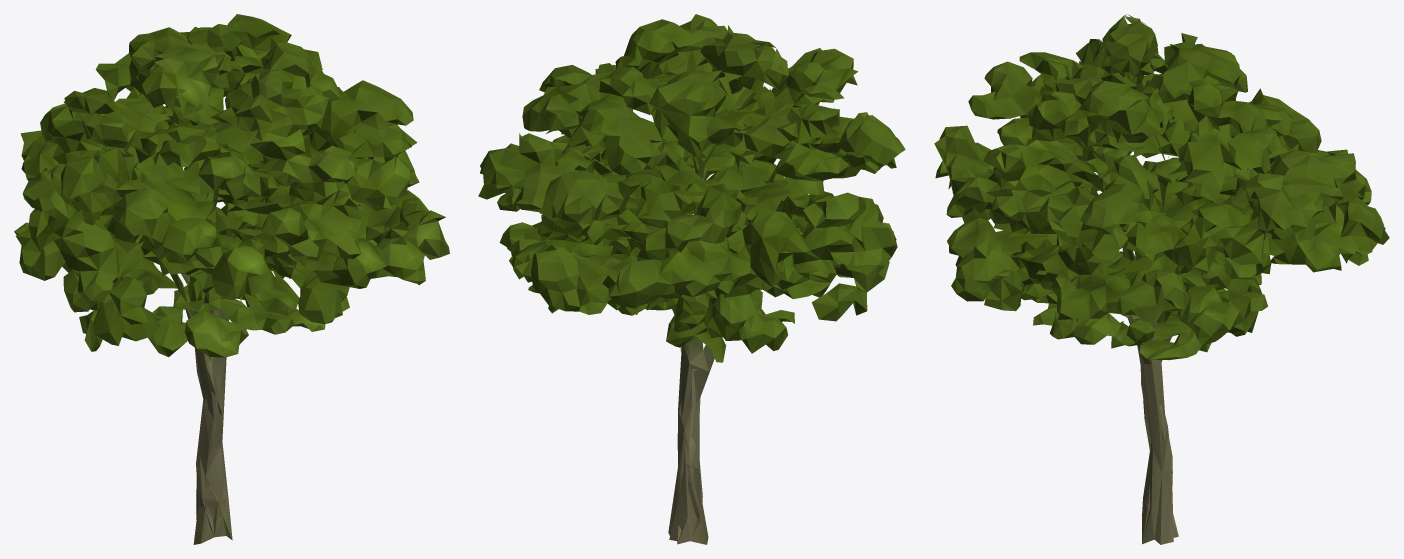
Rendered from lib_tp_hoe.vc.glb.
3 views of the same model, side by side, from view 1: azimuth 30°, elevation 25°; view 2: azimuth 150°, elevation 25°; view 3: azimuth 270°, elevation 25° (orthographic). The views are drawn at different scales.
Visible parts, largest first — view 1: lib_tp_hoe; view 2: lib_tp_hoe; view 3: lib_tp_hoe.
Part boxes in pixels (x1,y1,x2,y2): lib_tp_hoe: (14,14,449,544); lib_tp_hoe: (478,14,905,544); lib_tp_hoe: (934,14,1389,544).
Size of the model in its own units: 1.52 by 1.88 by 1.57.
